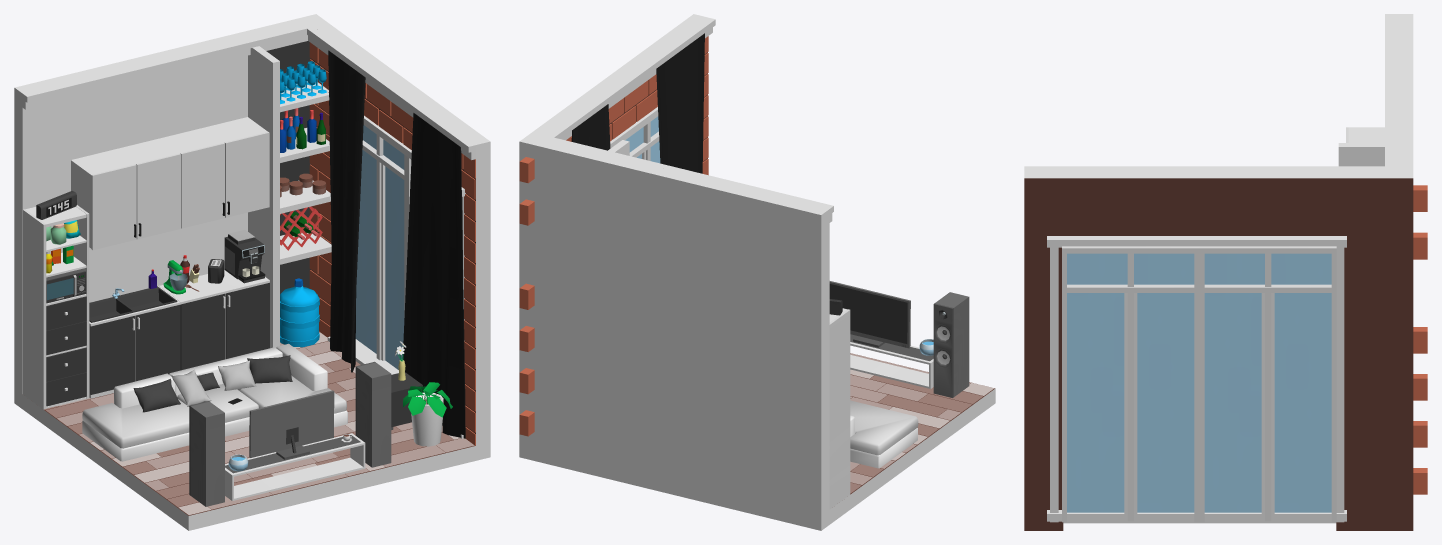
File: room_28.glb
3 renders of one model, left to right at view 1: azimuth 30°, elevation 25°; view 2: azimuth 150°, elevation 25°; view 3: azimuth 270°, elevation 25°, orthographic. The views are drawn at different scales.
Visible parts, largest first — view 1: Walls_006.067, kitchen_item_025.001, Curtains_022.002, sofa_030.001, shelf_058.002, floor_018.004, window_009.004, Curtains_022.001, Walls_056.008, kitchen_item_054.001, kitchen_item_055.001, Walls_005.513 (+25 smaller); view 2: Walls_006.067, Curtains_022.002, floor_018.004, shelf_058.002, musical_instrument_019.003, electronics_033.001, sofa_030.001, Walls_056.009, Walls_056.008, tv_wall_016.002, Walls_056.011, Walls_005.510 (+5 smaller); view 3: window_009.004, window_009.003, Walls_056.009, Walls_056.011, Walls_056.010, Walls_005.505, Walls_006.067, Walls_005.508, Walls_005.507, Walls_005.506, Walls_005.513, Walls_005.511 (+5 smaller).
Part boxes in pixels (box(x1,y1,x2,y2)): Walls_006.067: box(14, 17, 309, 408); kitchen_item_025.001: box(71, 117, 269, 250); Curtains_022.002: box(403, 113, 465, 438); sofa_030.001: box(82, 343, 347, 461); shelf_058.002: box(23, 205, 89, 409); floor_018.004: box(44, 331, 474, 514); window_009.004: box(355, 125, 406, 369); Curtains_022.001: box(328, 50, 365, 372); Walls_056.008: box(22, 332, 475, 530); kitchen_item_054.001: box(89, 286, 180, 398); kitchen_item_055.001: box(159, 270, 269, 370); Walls_005.513: box(248, 46, 279, 348); Walls_006.067: box(534, 139, 829, 530); Curtains_022.002: box(656, 33, 704, 173); floor_018.004: box(850, 353, 994, 493); shelf_058.002: box(829, 308, 850, 509); musical_instrument_019.003: box(933, 292, 969, 397); electronics_033.001: box(829, 281, 910, 348); sofa_030.001: box(850, 400, 918, 468); Walls_056.009: box(519, 116, 567, 460); Walls_056.008: box(829, 368, 995, 524); tv_wall_016.002: box(850, 334, 933, 388); Walls_056.011: box(554, 27, 690, 124); Walls_005.510: box(547, 18, 715, 140); window_009.004: box(1199, 246, 1336, 522); window_009.003: box(1062, 246, 1199, 522); Walls_056.009: box(1336, 170, 1413, 530); Walls_056.011: box(1063, 170, 1336, 235); Walls_056.010: box(1024, 170, 1063, 530); Walls_005.505: box(1047, 236, 1346, 247); Walls_006.067: box(1394, 14, 1413, 170); Walls_005.508: box(1047, 510, 1346, 521); Walls_005.507: box(1050, 247, 1058, 522); Walls_005.506: box(1336, 247, 1344, 522); Walls_005.513: box(1338, 143, 1384, 166); Walls_005.511: box(1388, 14, 1394, 170).
Size of the model in its own units: 4.36 by 4.2 by 4.36.
Materials: 1 (1 with a texture image).
